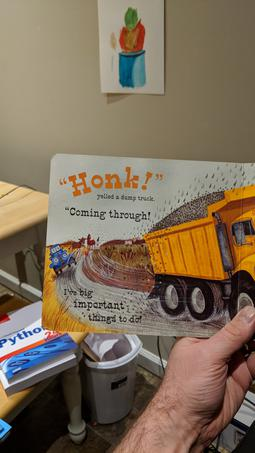text block: (61, 283, 150, 326), (54, 201, 159, 223), (96, 187, 160, 202)
